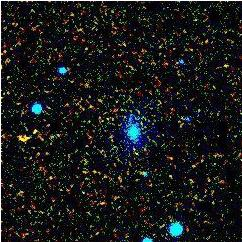star: (8, 124, 38, 154)
